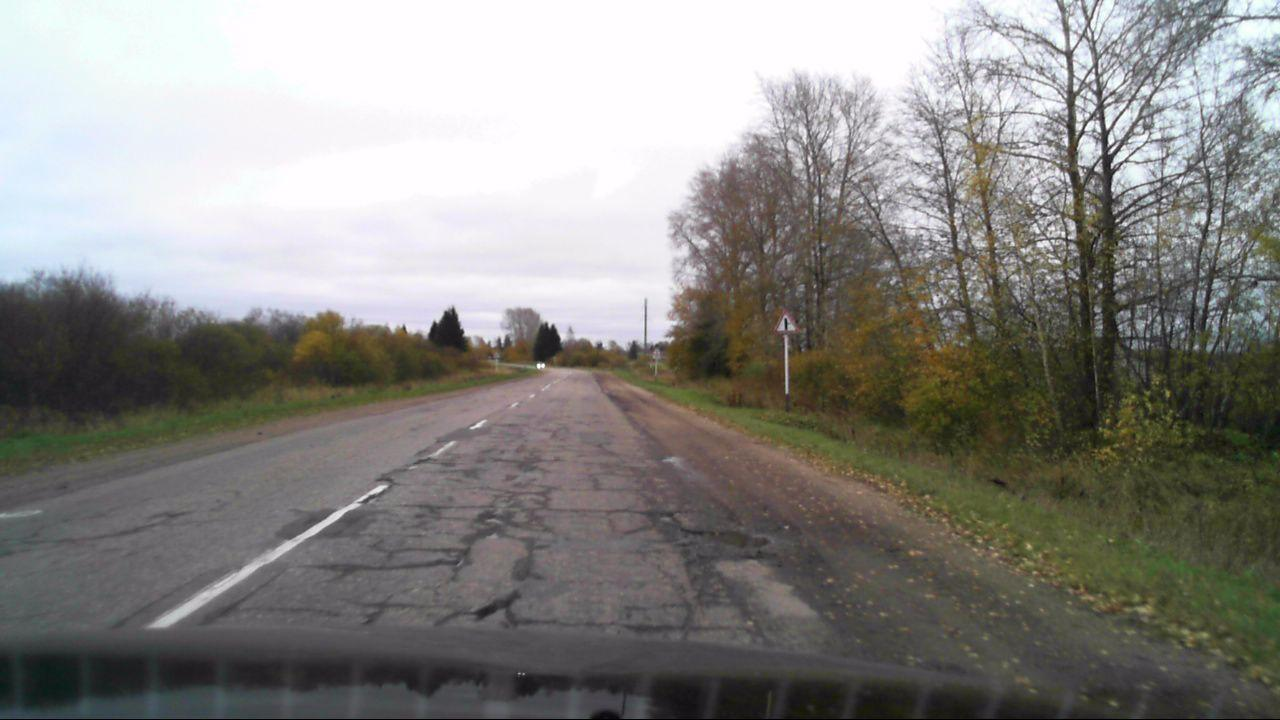road_sign: (772, 309, 801, 334)
